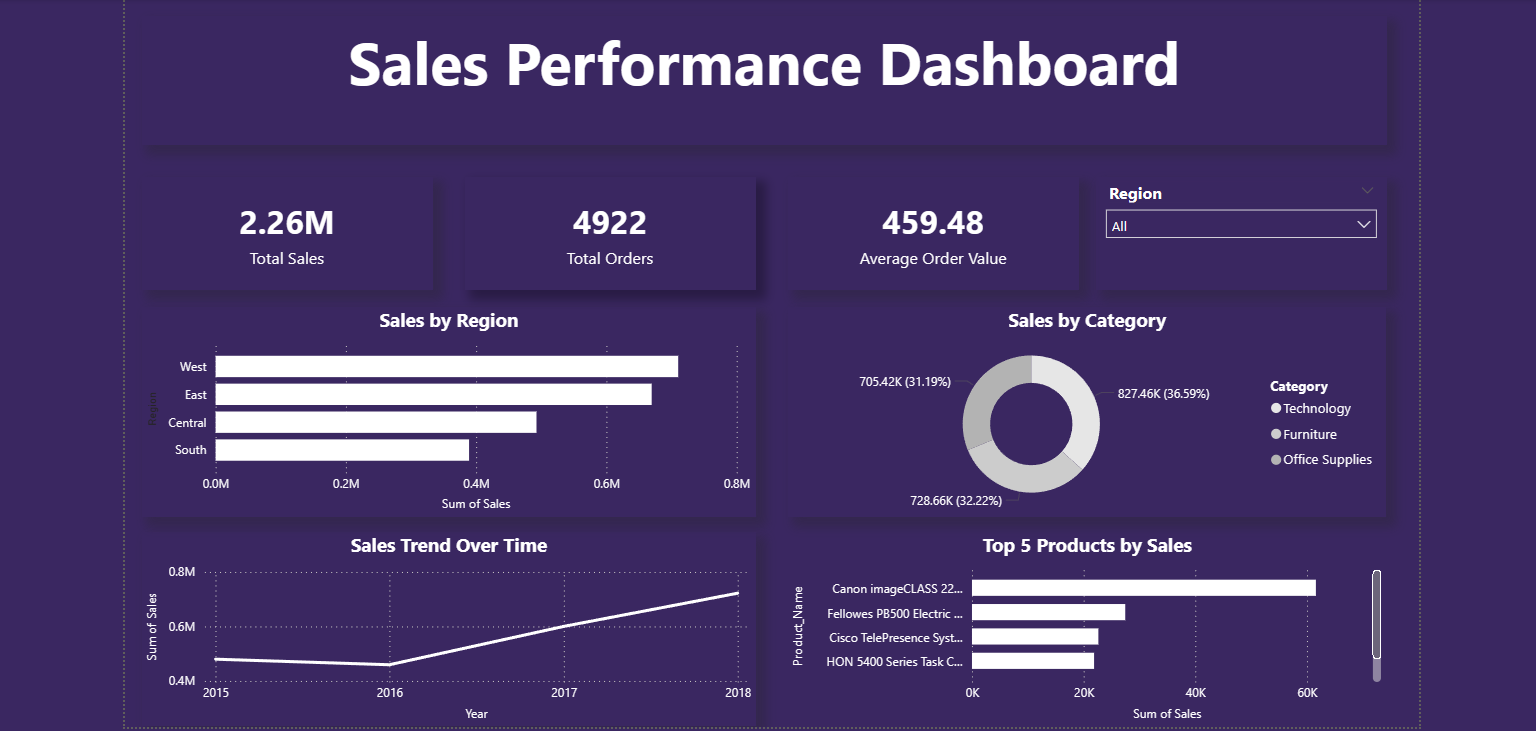

The page's visual inventory and layout, read from the dashboard file:
{"tool":"powerbi","page":{"name":"Sales Dashboard","canvas":[1280,720],"ordinal":0},"visuals":[{"type":"card","fields":{"Values":["Sum(superstore_final_dataset (1).Sales)"]},"box":[16,176,288,112],"z":0},{"type":"card","fields":{"Values":["Count(superstore_final_dataset (1).Order_ID)"]},"box":[336,176,288,112],"z":1},{"type":"card","fields":{"Values":["superstore_final_dataset (1).Average Order Value"]},"box":[656,176,288,112],"z":2},{"type":"clusteredBarChart","title":"Sales by Region","fields":{"Y":["Sum(superstore_final_dataset (1).Sales)"],"Category":["superstore_final_dataset (1).Region"]},"box":[16,304,608,208],"z":3},{"type":"donutChart","title":"Sales by Category","fields":{"Category":["superstore_final_dataset (1).Category"],"Y":["Sum(superstore_final_dataset (1).Sales)"]},"box":[656,304,592,208],"z":4},{"type":"lineChart","title":"Sales Trend Over Time","fields":{"Category":["superstore_final_dataset (1).Order_Date.Variation.Date Hierarchy.Year","superstore_final_dataset (1).Order_Date.Variation.Date Hierarchy.Month"],"Y":["Sum(superstore_final_dataset (1).Sales)"]},"box":[16,528,608,192],"z":5},{"type":"clusteredBarChart","title":"Top 5 Products by Sales","fields":{"Category":["superstore_final_dataset (1).Product_Name"],"Y":["Sum(superstore_final_dataset (1).Sales)"]},"box":[656,528,592,192],"z":6},{"type":"textbox","box":[16,16,1232,128],"z":7},{"type":"slicer","title":"Region","fields":{"Values":["superstore_final_dataset (1).Region"]},"box":[960,176,288,112],"z":8}]}

Visuals, with their boxes on the page's 1280x720 design canvas (x1, y1, x2, y2). These are canvas units, not pixel positions in the 1536x731 screenshot, which may show the page scaled, cropped or inside an application window:
card - Sum(superstore_final_dataset (1).Sales): l=16, t=176, r=304, b=288
card - Count(superstore_final_dataset (1).Order_ID): l=336, t=176, r=624, b=288
card - superstore_final_dataset (1).Average Order Value: l=656, t=176, r=944, b=288
"Sales by Region" clusteredBarChart: l=16, t=304, r=624, b=512
"Sales by Category" donutChart: l=656, t=304, r=1248, b=512
"Sales Trend Over Time" lineChart: l=16, t=528, r=624, b=720
"Top 5 Products by Sales" clusteredBarChart: l=656, t=528, r=1248, b=720
textbox: l=16, t=16, r=1248, b=144
"Region" slicer: l=960, t=176, r=1248, b=288
